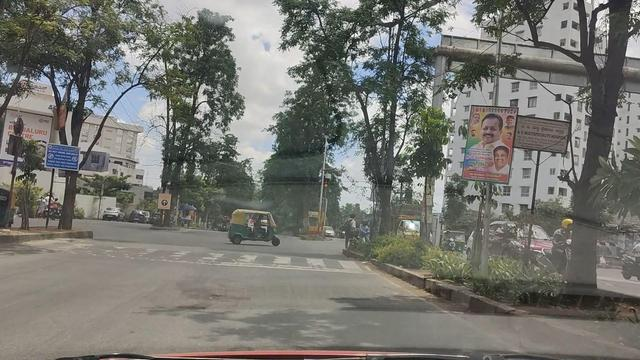SpeedBump: (43, 247, 374, 273)
